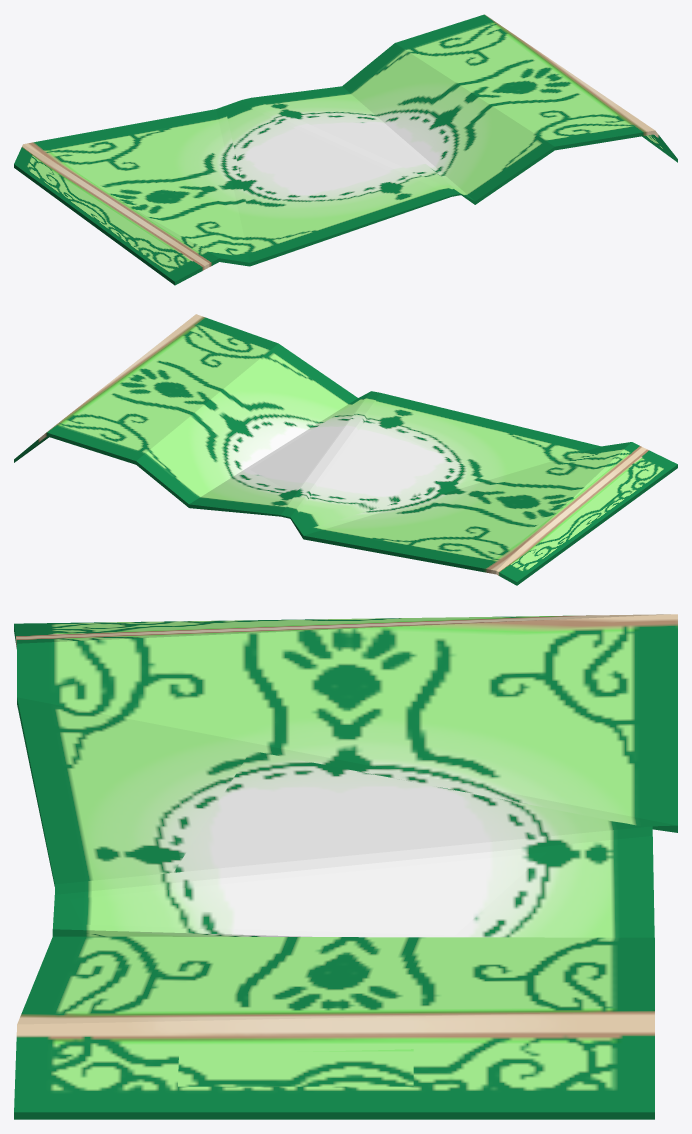
File: Money_Single.fbx
3 renders of one model, top to bottom at view 1: azimuth 30°, elevation 25°; view 2: azimuth 150°, elevation 25°; view 3: azimuth 270°, elevation 25°, orthographic. The views are drawn at different scales.
Visible parts, largest first — view 1: SingleBill; view 2: SingleBill; view 3: SingleBill.
Boxes of the visible parts, bbox=[...] form: SingleBill: bbox=[14, 14, 677, 285]; SingleBill: bbox=[14, 314, 677, 585]; SingleBill: bbox=[14, 614, 677, 1119].
Bounding box in the file's own units: 316 × 24.51 × 181.
1 material, 1 textured.
